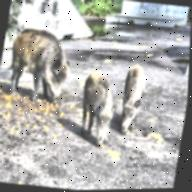boar: (45, 51, 150, 180), (98, 52, 190, 171), (0, 3, 81, 111)
